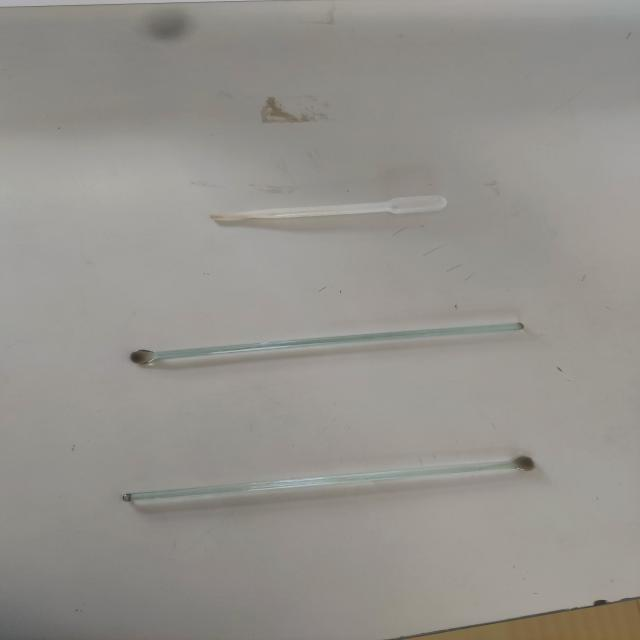Glass_Rod: (99, 437, 556, 540), (92, 291, 550, 376)
Pipette: (188, 176, 506, 233)
